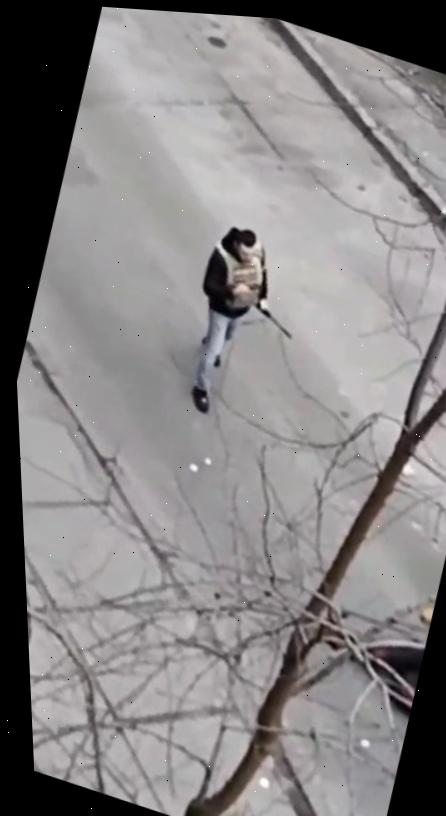person: (163, 212, 320, 438)
